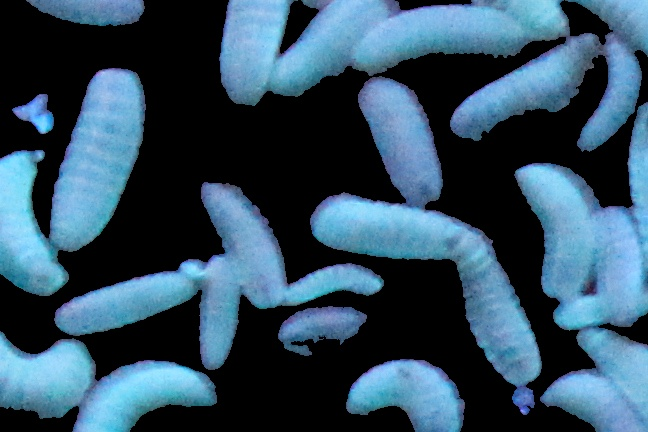larvae: (53, 67, 144, 252), (449, 34, 597, 139), (351, 1, 538, 74), (356, 77, 448, 209), (311, 191, 490, 258), (451, 253, 542, 380), (513, 162, 597, 298), (266, 1, 389, 93), (201, 181, 285, 307), (75, 362, 217, 432), (1, 149, 66, 296), (55, 270, 197, 335), (346, 357, 465, 432), (216, 1, 292, 106), (576, 30, 640, 150), (2, 338, 93, 421), (539, 369, 647, 432), (580, 327, 648, 417), (601, 206, 644, 321), (197, 255, 240, 368), (282, 264, 385, 305), (465, 1, 572, 39), (275, 305, 366, 349), (555, 290, 648, 330), (5, 1, 146, 25), (623, 103, 648, 231)
